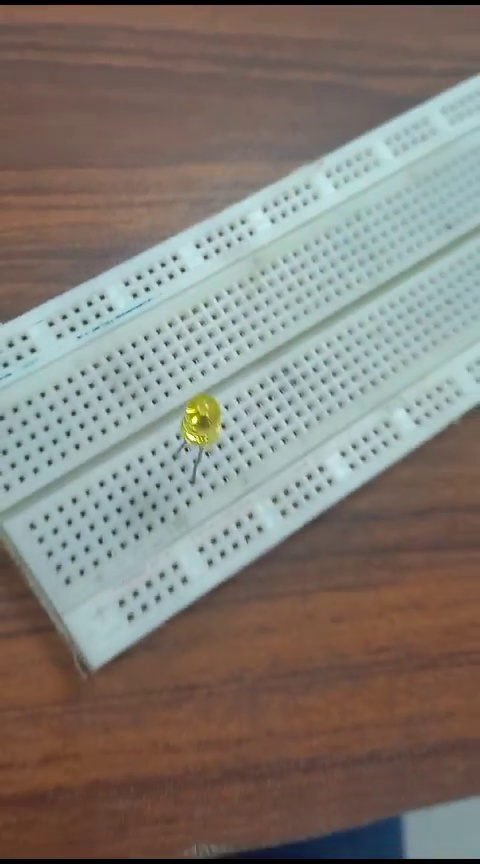LED: (170, 389, 218, 495)
